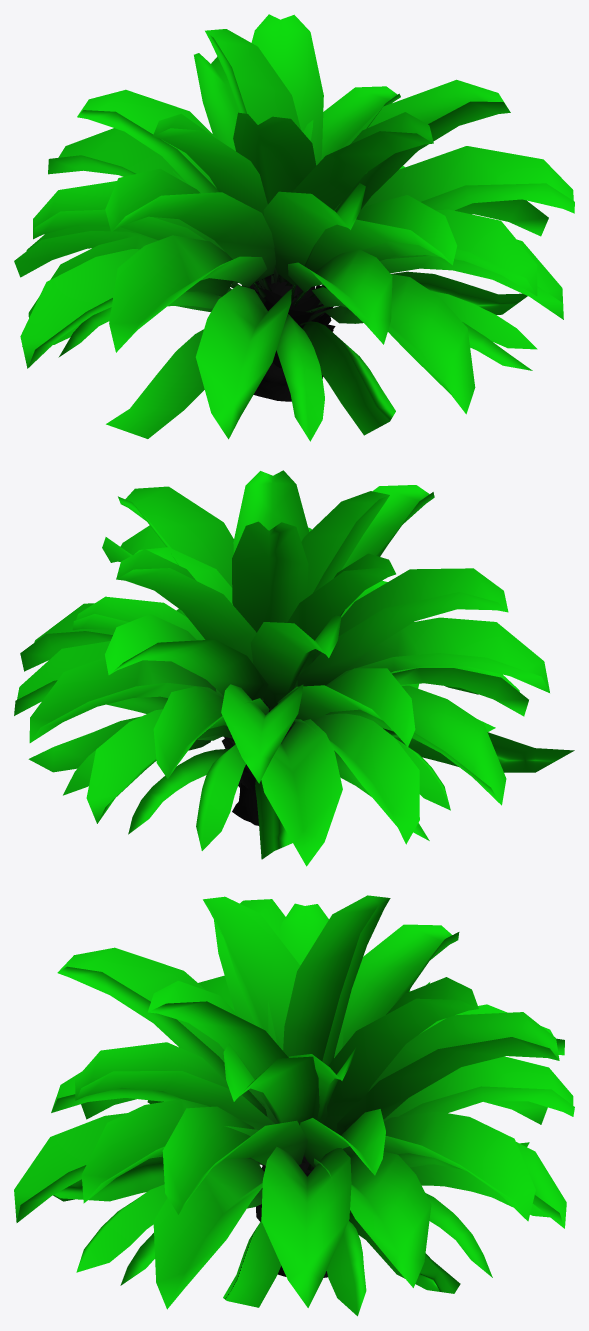
3 renders of one model, top to bottom at view 1: azimuth 30°, elevation 25°; view 2: azimuth 150°, elevation 25°; view 3: azimuth 270°, elevation 25°, orthographic. The views are drawn at different scales.
Parts seen in each view (by area): view 1: SM_TR_DatePalm_3m_HD; view 2: SM_TR_DatePalm_3m_HD; view 3: SM_TR_DatePalm_3m_HD.
Boxes of the visible parts, <box> form: SM_TR_DatePalm_3m_HD: <box>14,14,574,441</box>; SM_TR_DatePalm_3m_HD: <box>14,470,574,866</box>; SM_TR_DatePalm_3m_HD: <box>14,895,574,1316</box>.
Size of the model in its own units: 173 by 189 by 118.
